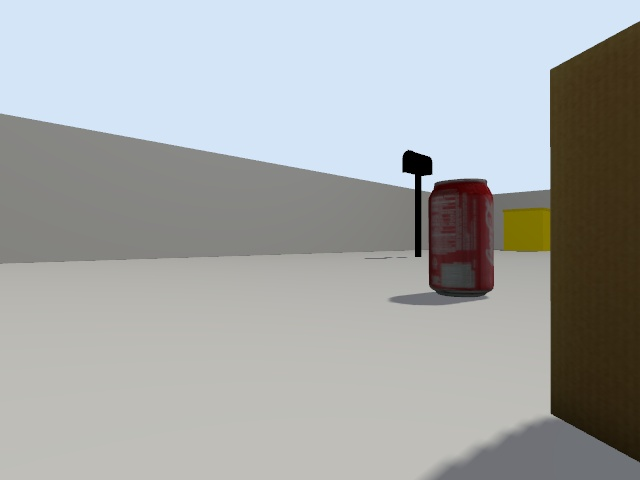boite_lettres: (402, 150, 432, 256)
canette: (428, 179, 493, 296)
carton: (550, 24, 639, 459)
